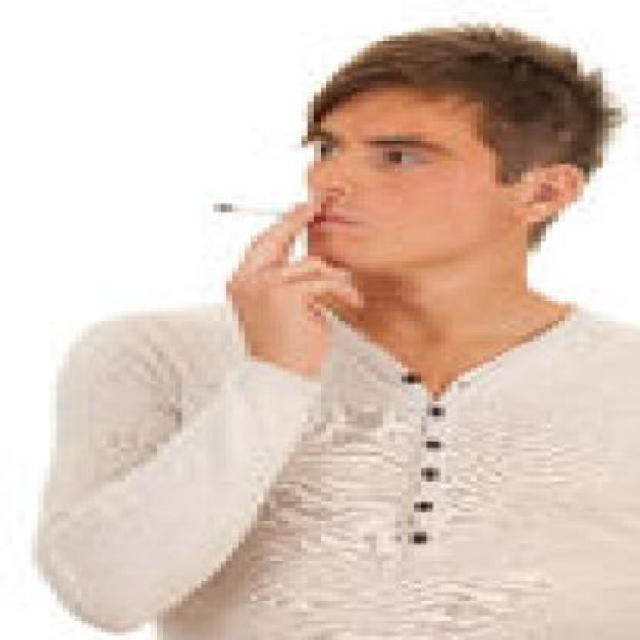cigarette: (212, 201, 296, 221)
